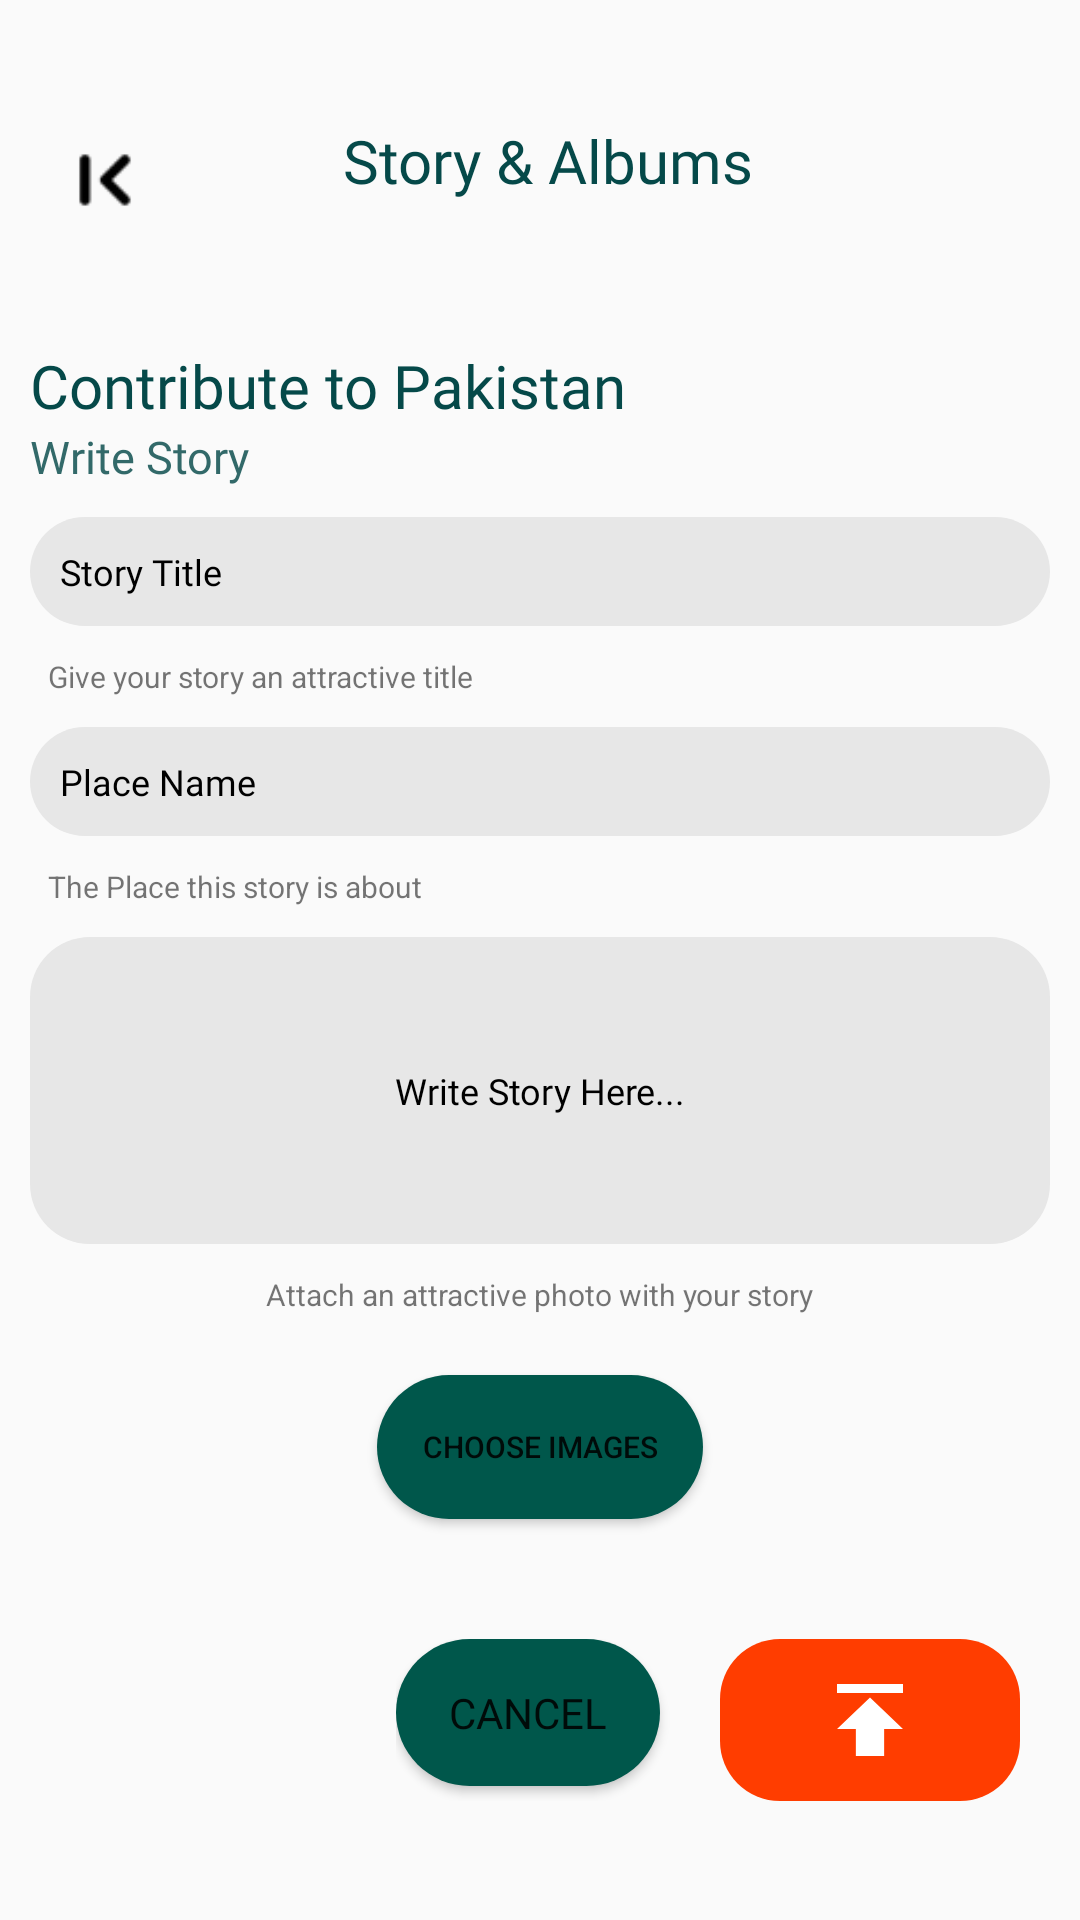

Icons on this 1080x1920 Android screen, each with its box as [x1=x1, y1=y1, x2=x2, y2=y2]:
back: [x1=79, y1=154, x2=131, y2=206]
upload: [x1=720, y1=1639, x2=1020, y2=1801]
